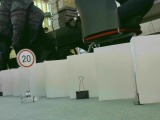speed_20: (16, 49, 37, 69)
